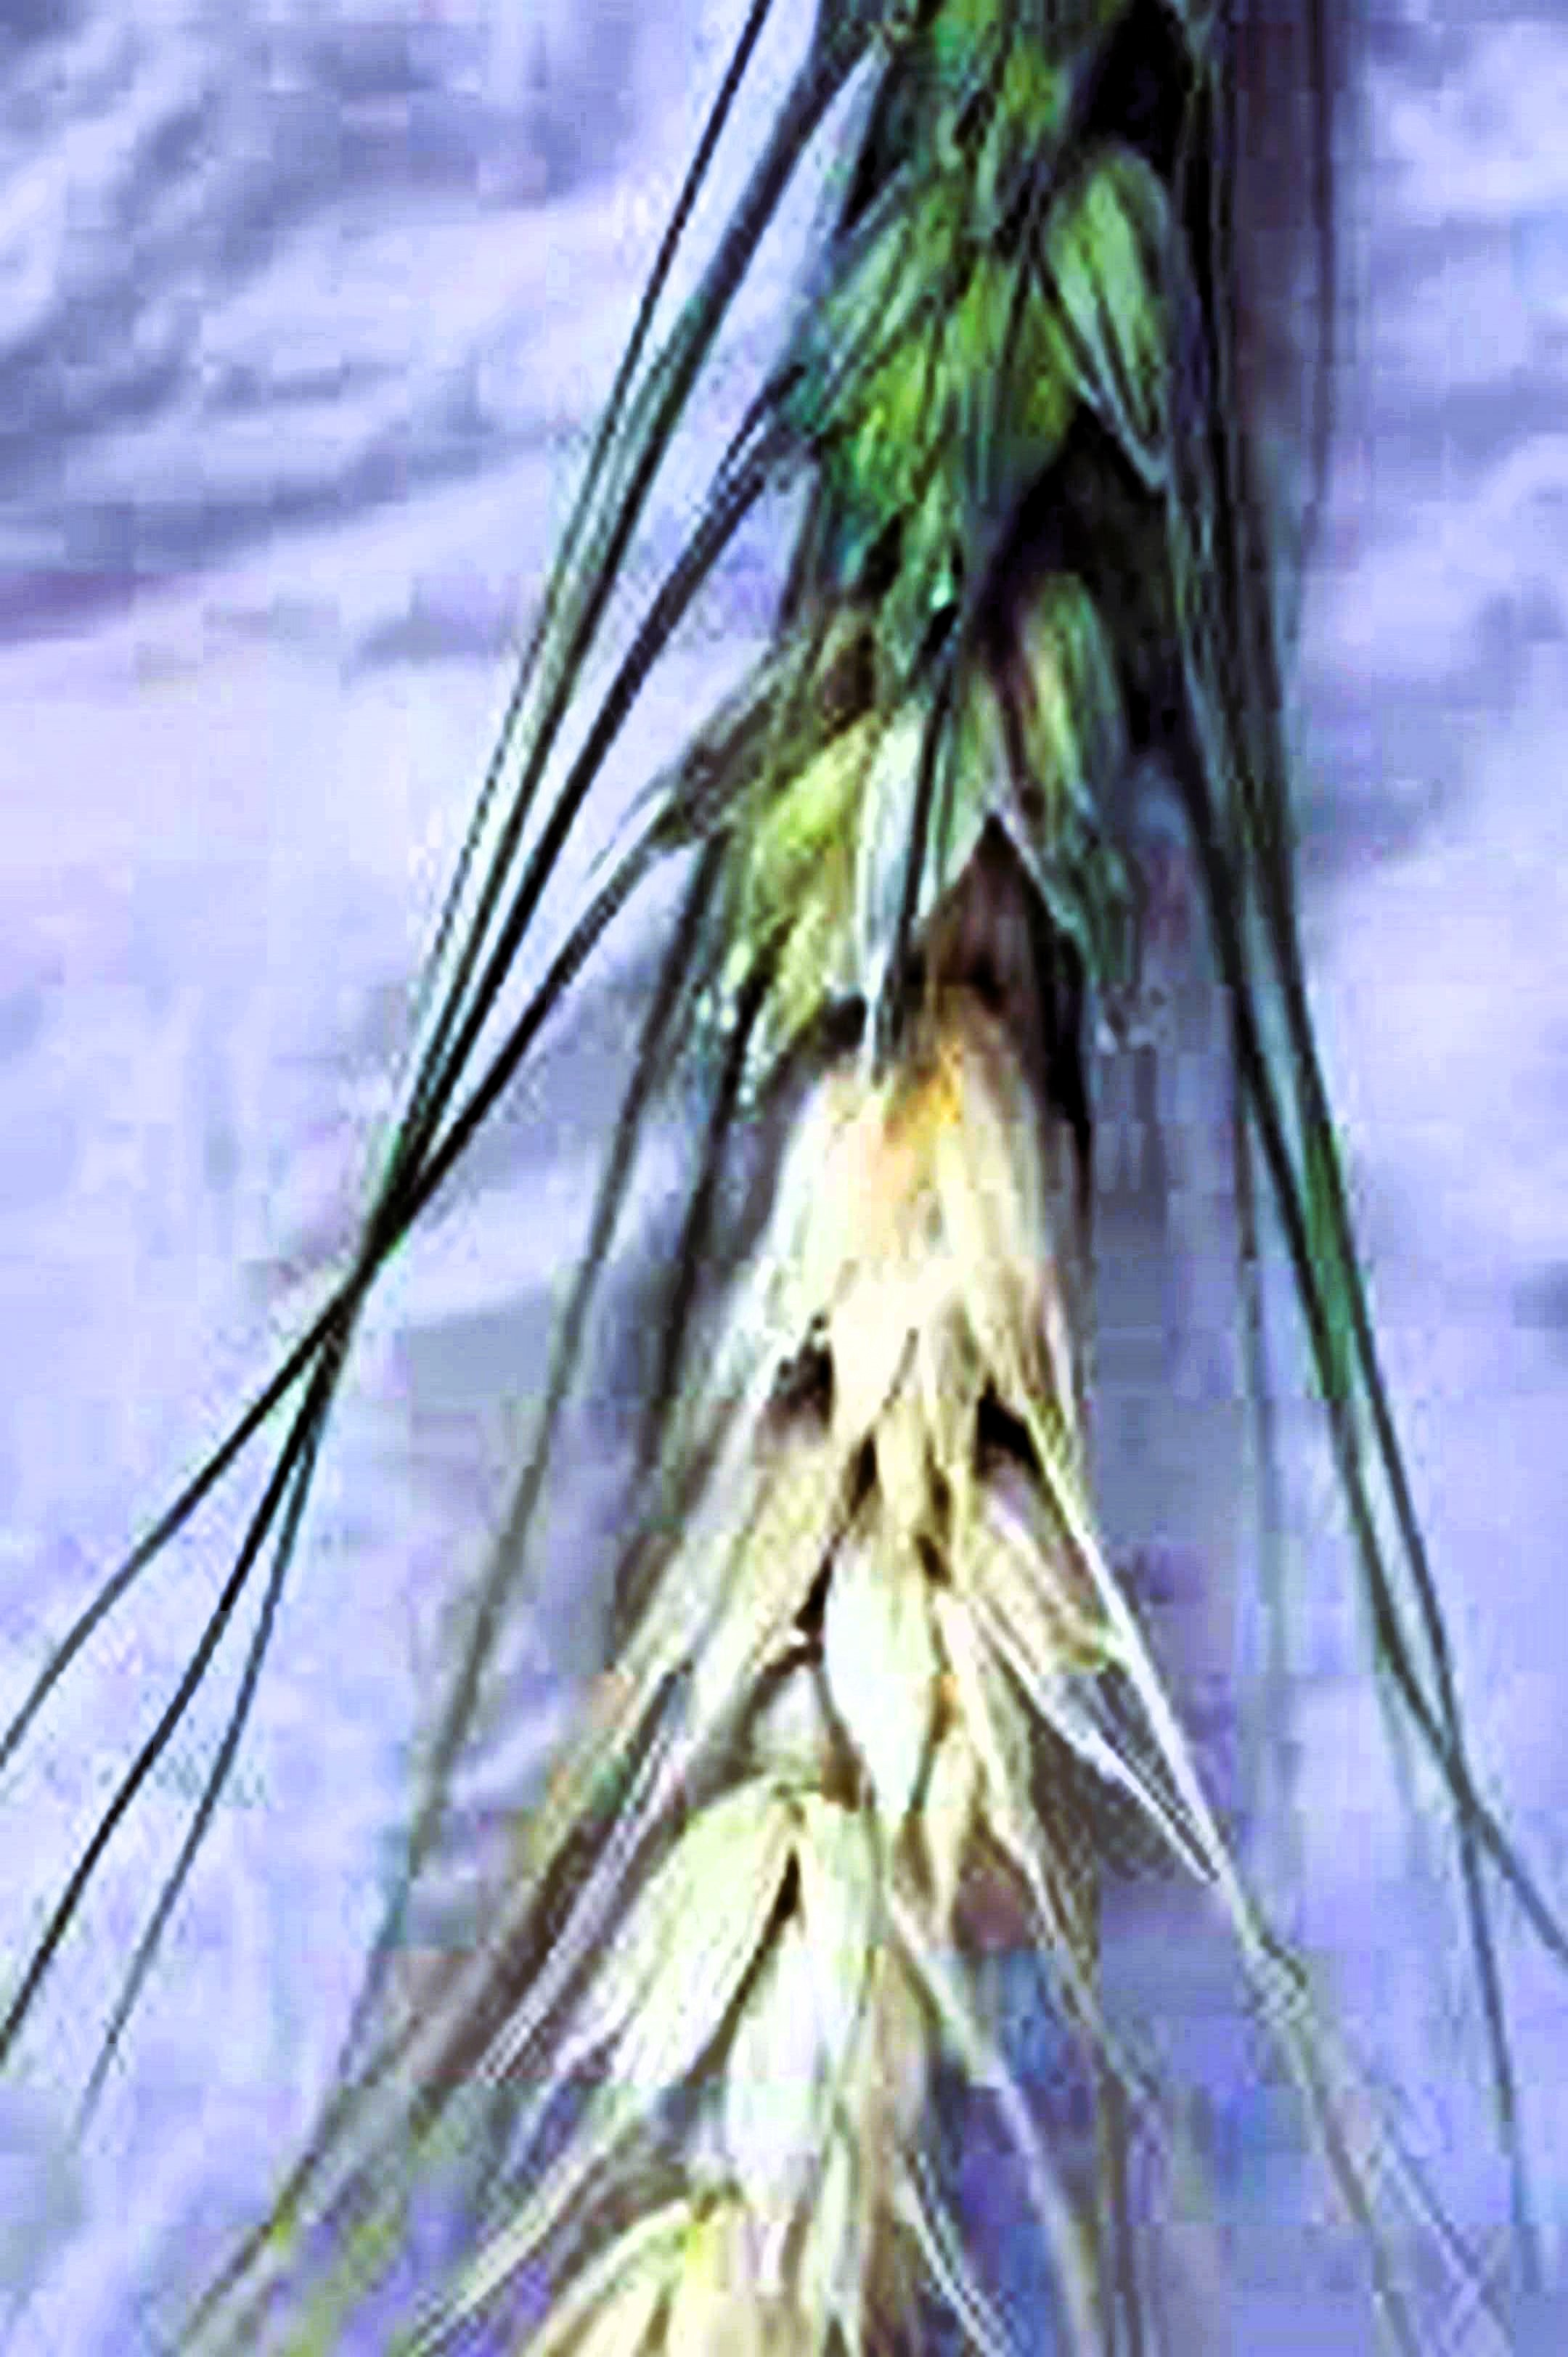Wheat scab: (525, 0, 1256, 2270)
